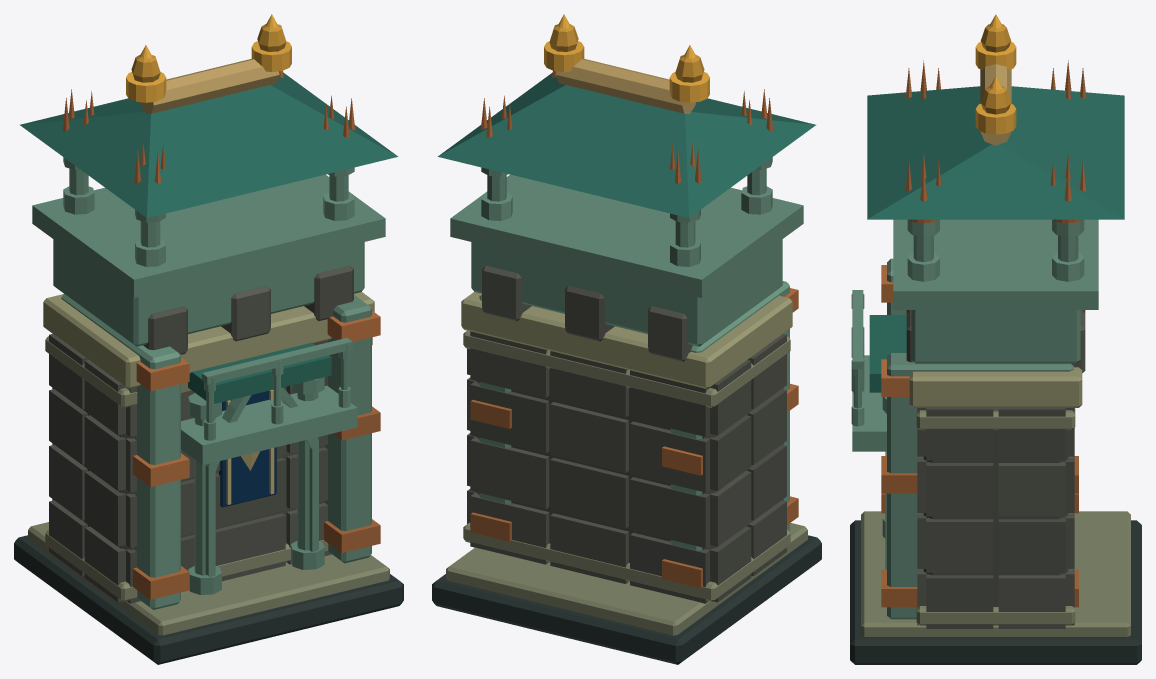
3 views of the same model, side by side, from view 1: azimuth 30°, elevation 25°; view 2: azimuth 150°, elevation 25°; view 3: azimuth 270°, elevation 25° (orthographic).
Parts seen in each view (by area): view 1: wall_L7_0, wall_L7_1; view 2: wall_L7_0, wall_L7_1; view 3: wall_L7_0, wall_L7_1.
Boxes of the visible parts, box(x1,y1,x2,y2) form: wall_L7_0: box(14, 24, 403, 664); wall_L7_1: box(62, 14, 380, 599); wall_L7_0: box(432, 24, 821, 664); wall_L7_1: box(470, 14, 798, 588); wall_L7_0: box(850, 24, 1141, 664); wall_L7_1: box(881, 14, 1086, 607).
Size of the model in its own units: 1.87 by 3.94 by 1.86.
